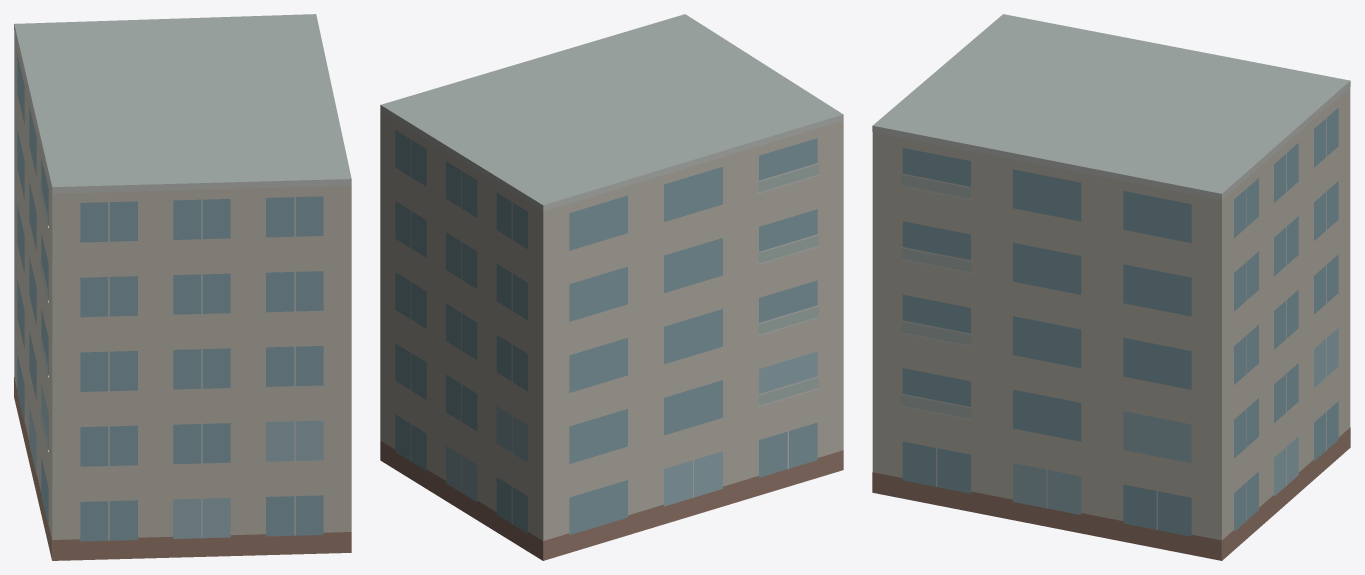
Rendered from survey-upis-32897628.glb.
The picture shows the model from 3 angles, left to right: view 1: azimuth 30°, elevation 25°; view 2: azimuth 150°, elevation 25°; view 3: azimuth 270°, elevation 25°; orthographic projection. The views are drawn at different scales.
Visible parts, largest first — view 1: survey-upis-32897628.tmp; view 2: survey-upis-32897628.tmp; view 3: survey-upis-32897628.tmp.
Part boxes in pixels (x1,y1,x2,y2): survey-upis-32897628.tmp: [14, 14, 351, 560]; survey-upis-32897628.tmp: [380, 14, 843, 560]; survey-upis-32897628.tmp: [872, 14, 1350, 560].
Bounding box in the file's own units: 14.72 × 14 × 16.53.
